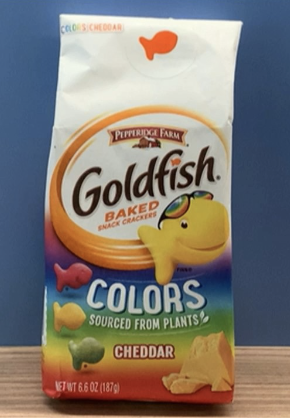crackers_150g: (49, 112, 225, 397)
